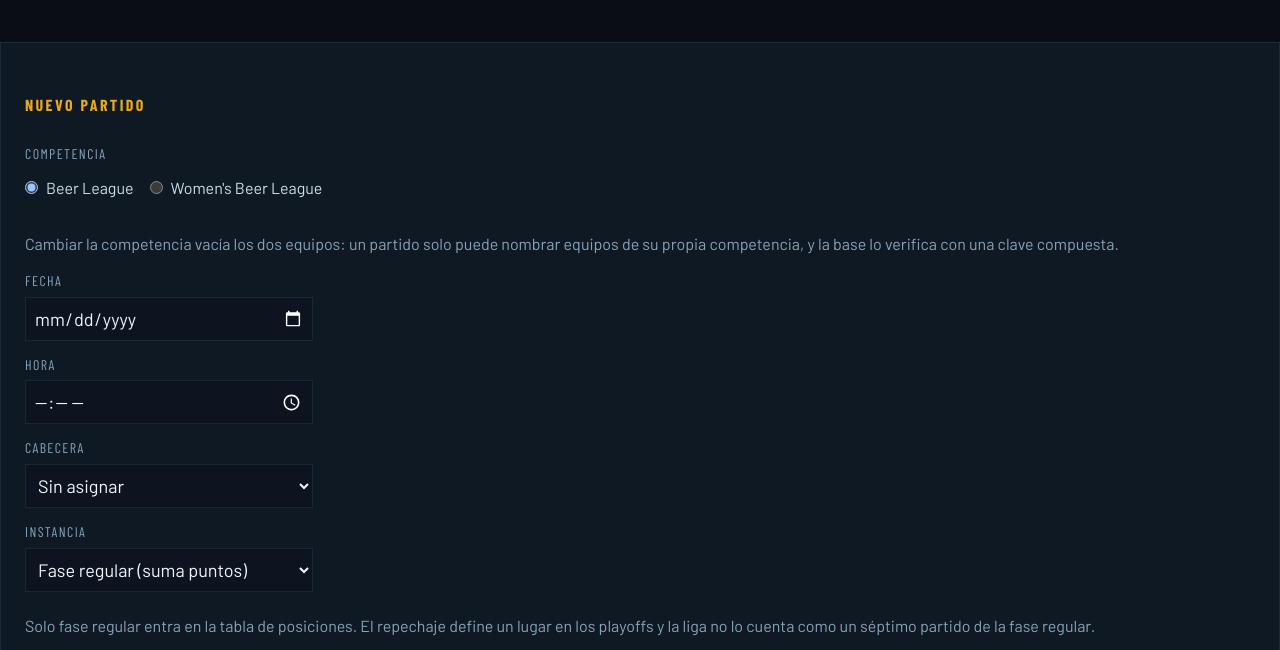
FixtureScreen › reports a refusal by row level security as a permission
(page scrolled)
Type "2026-05-23" into the date field labelled "Fecha".
click(169, 319); type("2026-05-23")  # box [25,297,313,341]
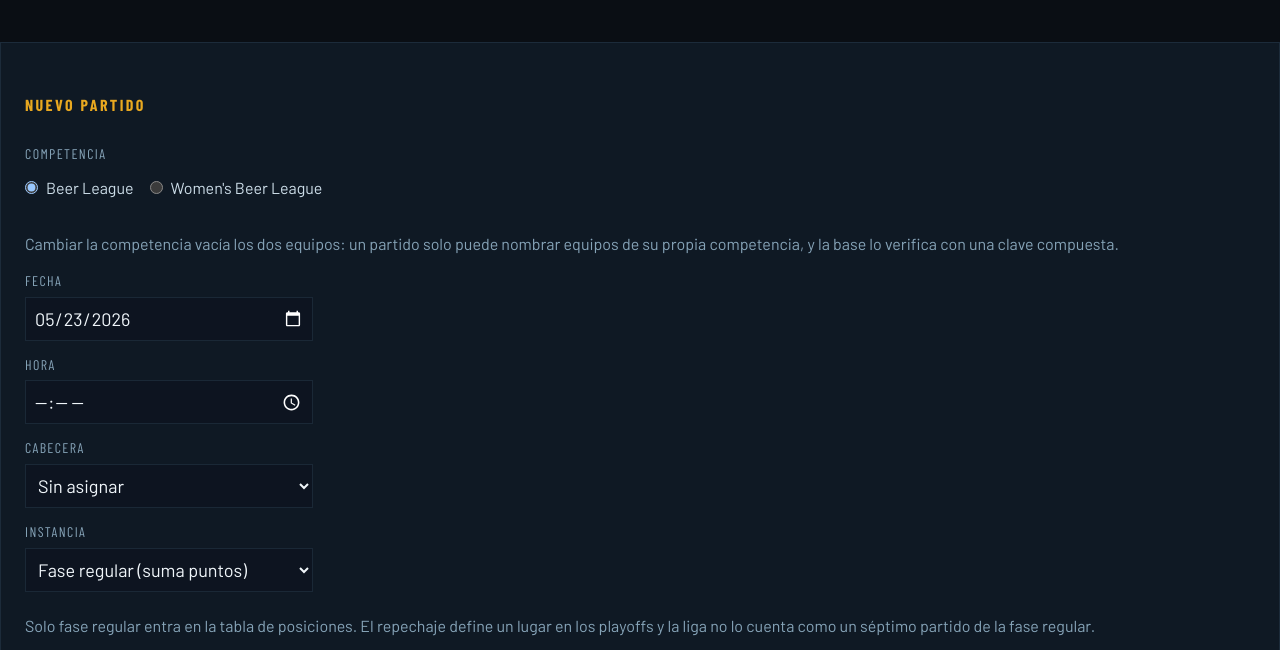
Type "22:30" into the time field labelled "Hora".
click(169, 402); type("22:30")  # box [25,380,313,424]
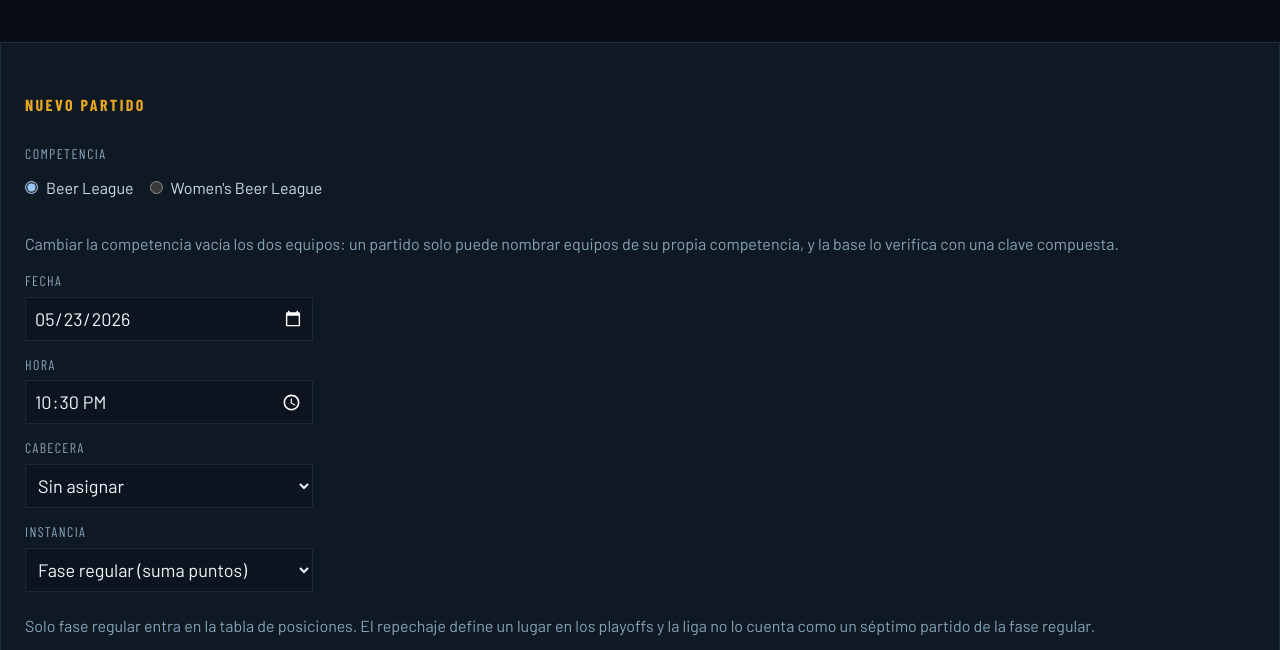
Select "Bahía" in the dropdown labelled "Cabecera" at (169, 486), box [25,464,313,508]
(page scrolled)
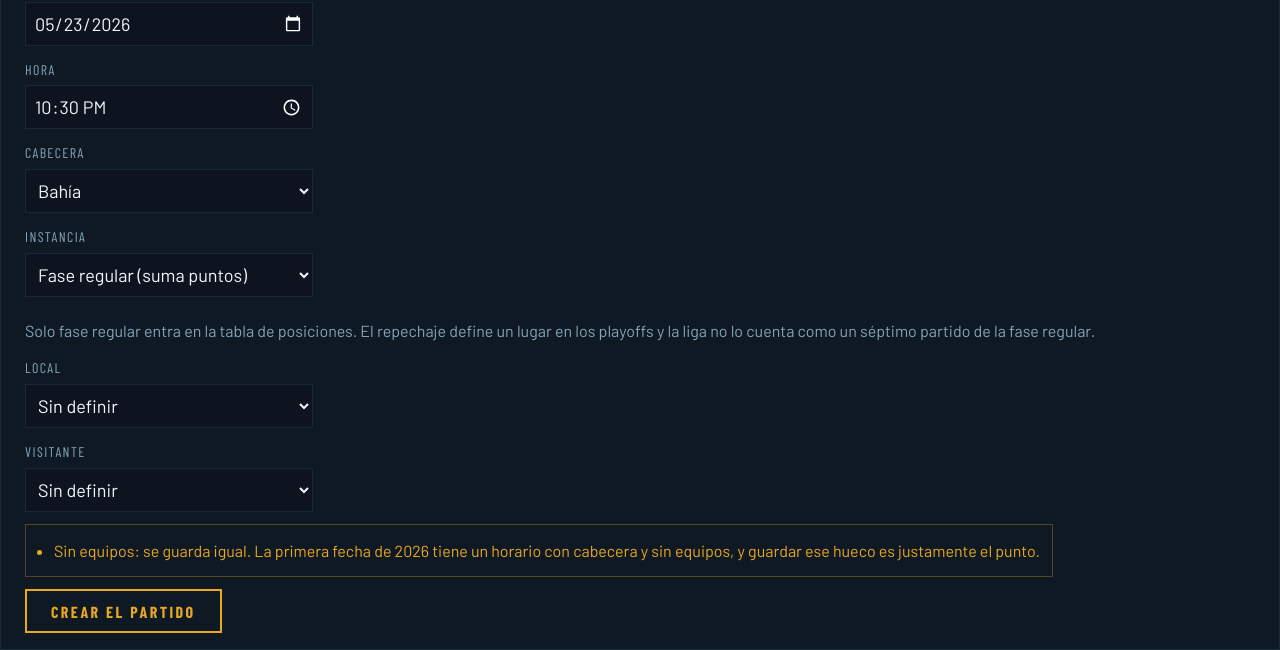
Click the button "Crear el partido".
click(123, 611)  # box [25,589,222,633]
(page scrolled)
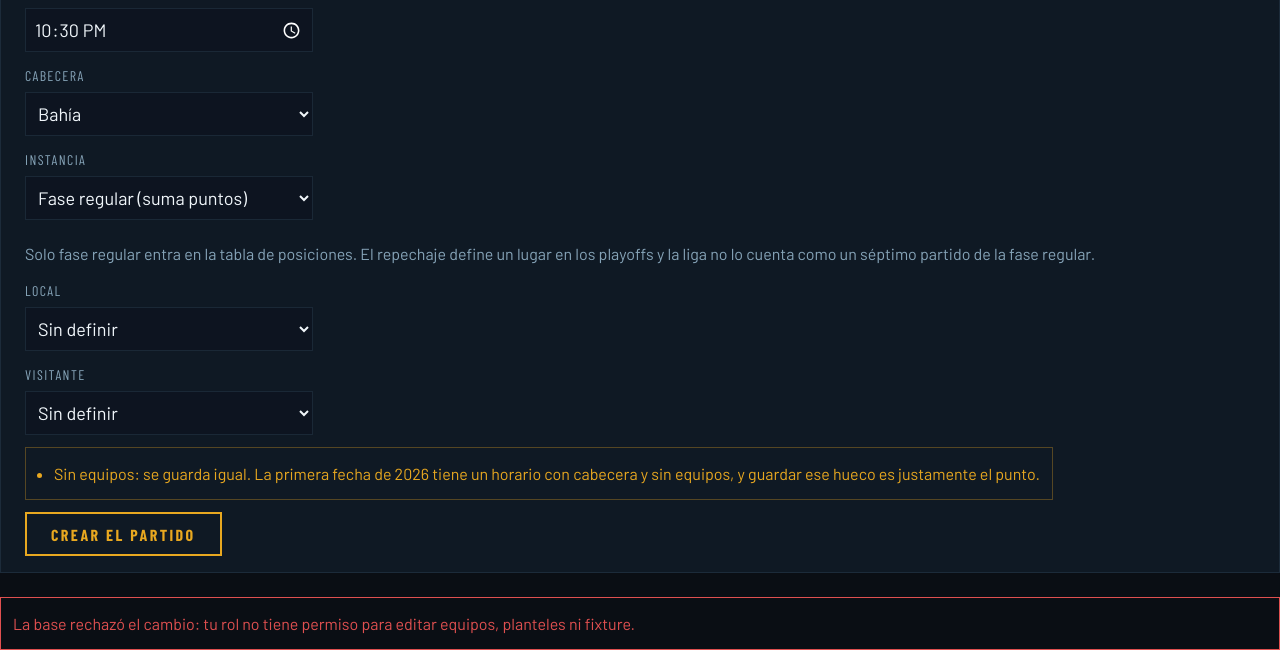
Result: the message shows "tu rol no tiene permiso para editar equipos, planteles ni fixture" at [13,614,635,633]
